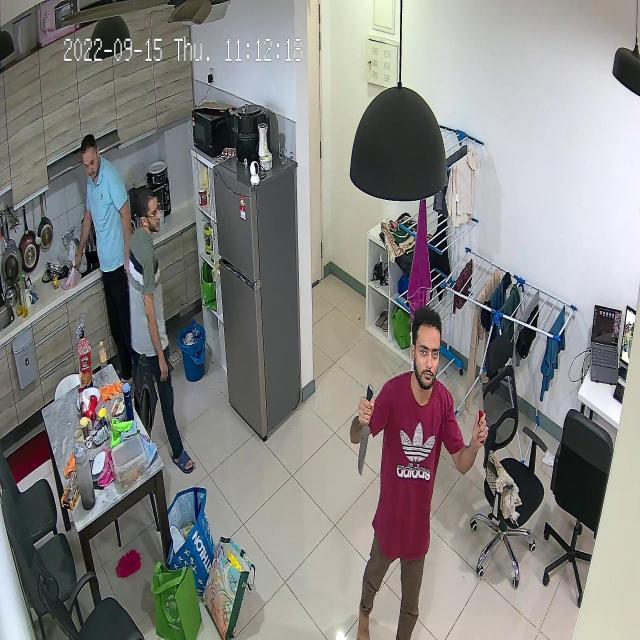Knife: (351, 382, 378, 476), (474, 362, 497, 444)
